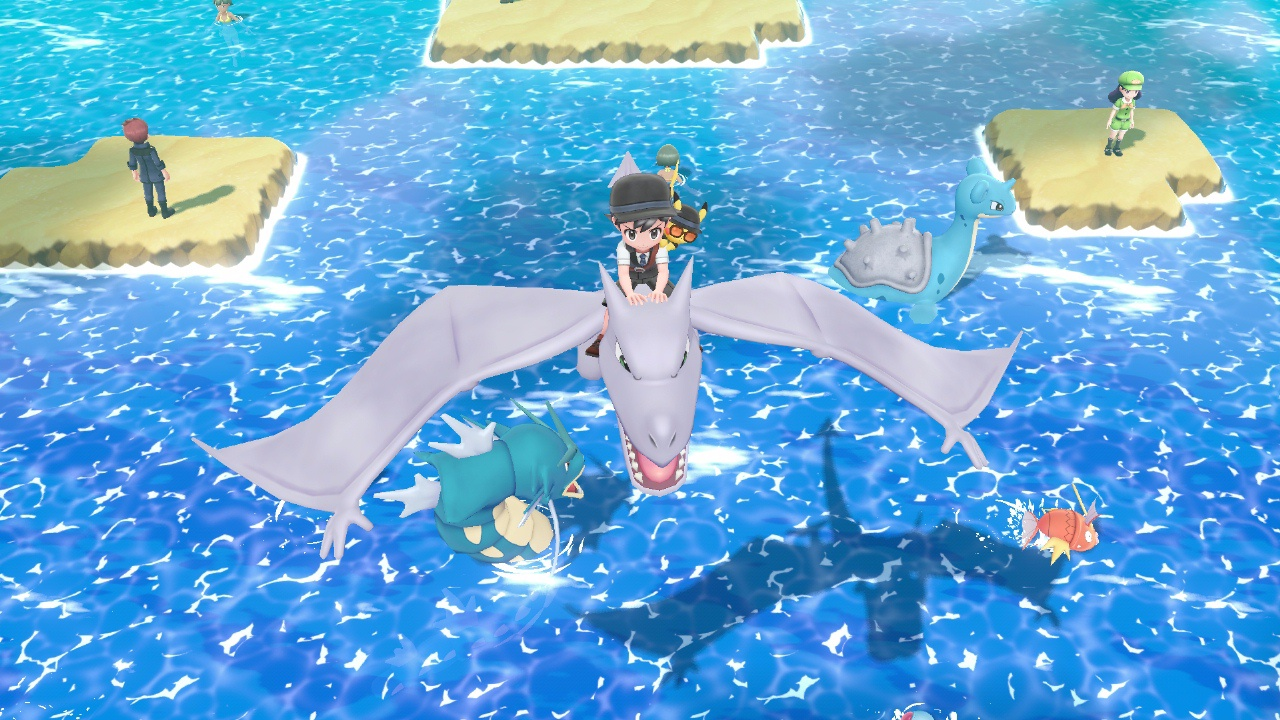Red: (1015, 506, 1102, 561)
